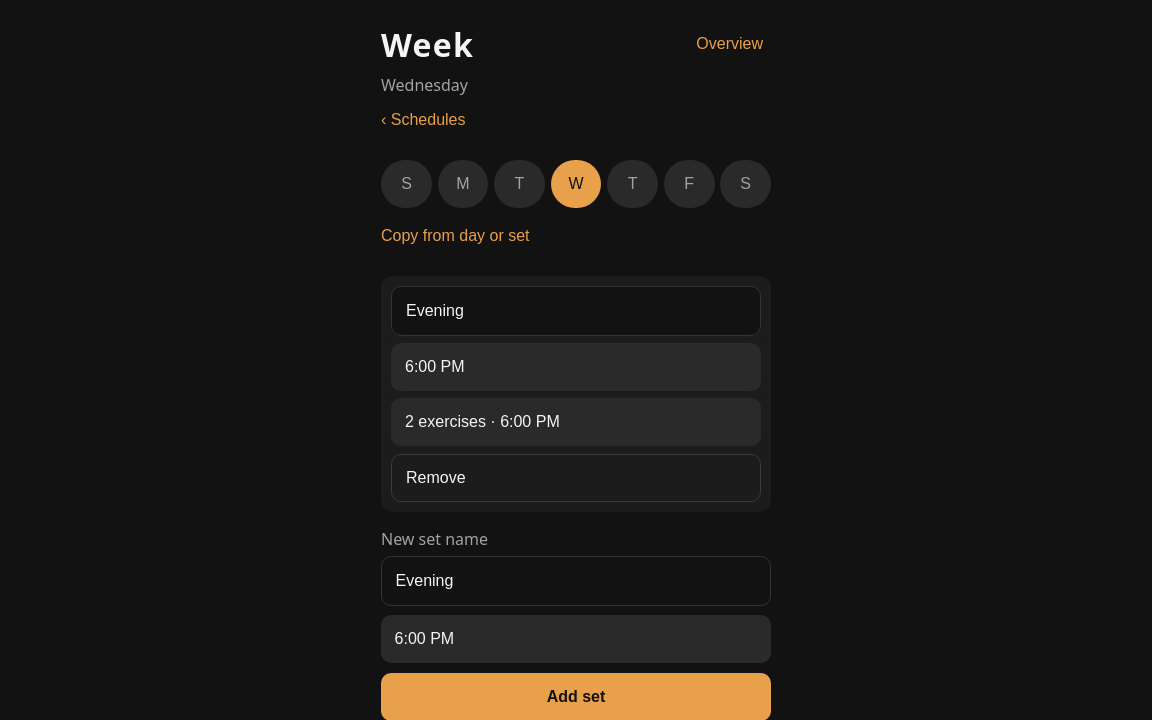
Test: WeekEditorPage › removes a set after confirm and surfaces delete errors
Click the button with aria-label "Remove Evening" at [436, 477], box x1=391 y1=454 x2=761 y2=502
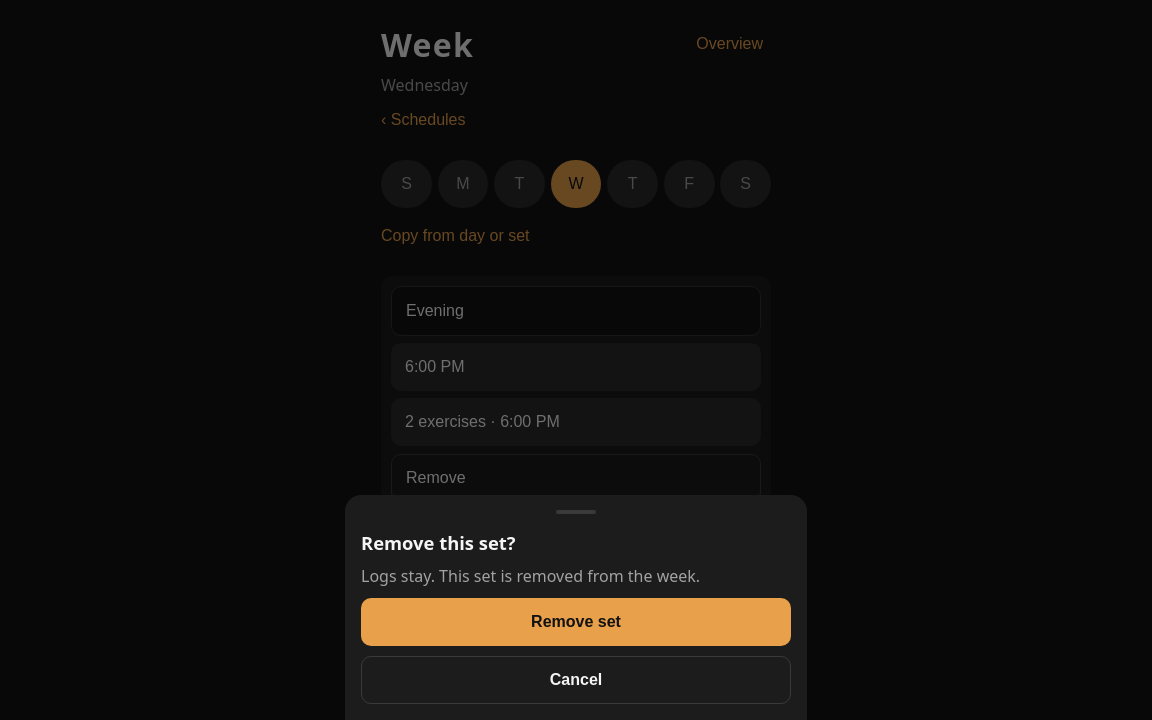
Now the element with test id "confirm-sheet" is shown
Click the button "Cancel" at [576, 680], box x1=361 y1=656 x2=791 y2=704
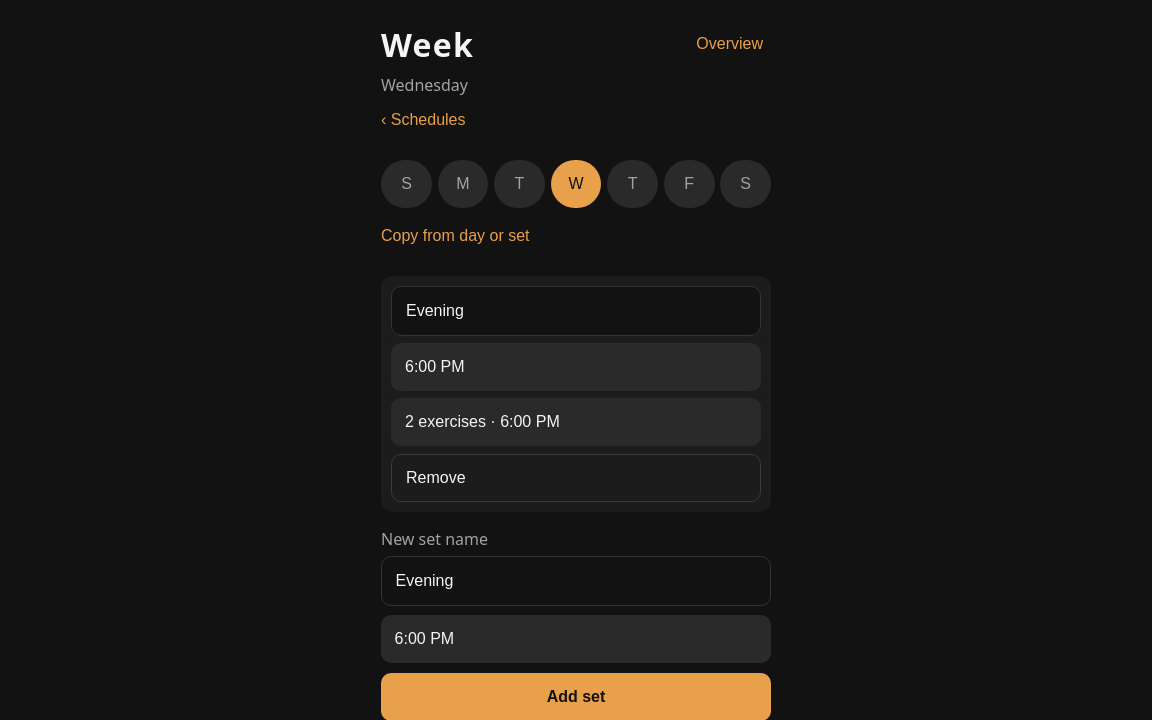
Now the element with test id "confirm-sheet" is gone
Click the button with aria-label "Remove Evening" at [436, 477], box x1=391 y1=454 x2=761 y2=502
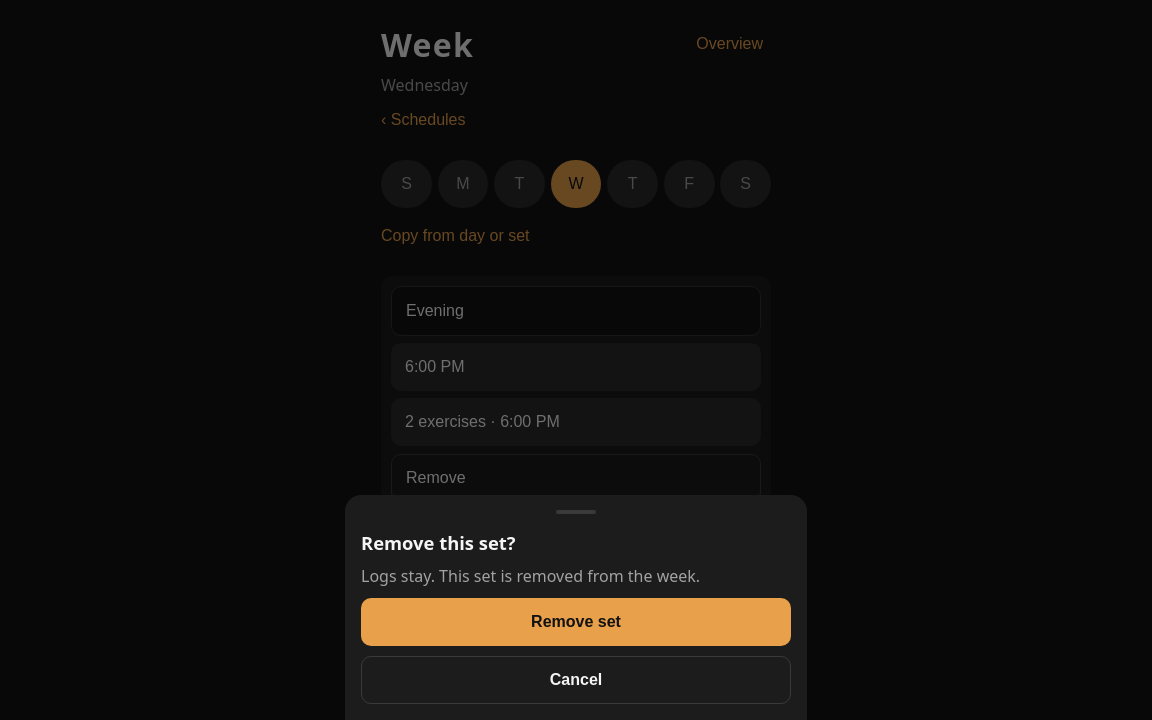
Click the button "Remove set" at [576, 622], box x1=361 y1=598 x2=791 y2=646
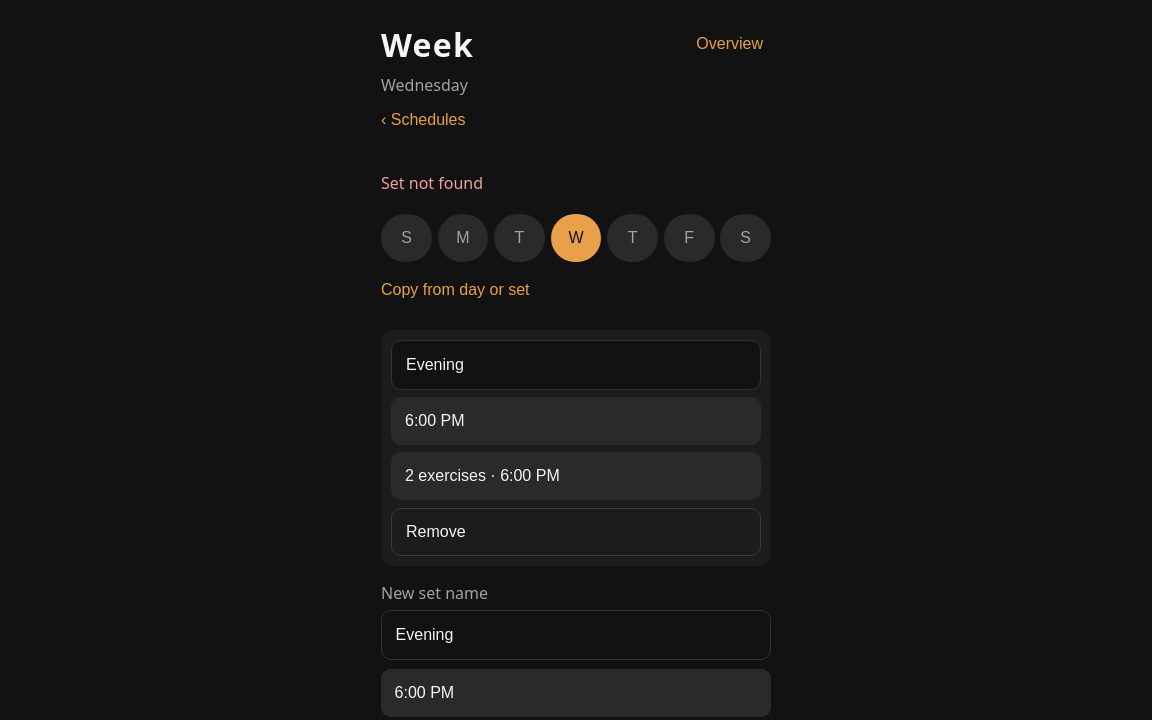
Now the message reads "Set not found", box x1=381 y1=172 x2=483 y2=194
Click the button with aria-label "Remove Evening" at [436, 531], box x1=391 y1=508 x2=761 y2=556
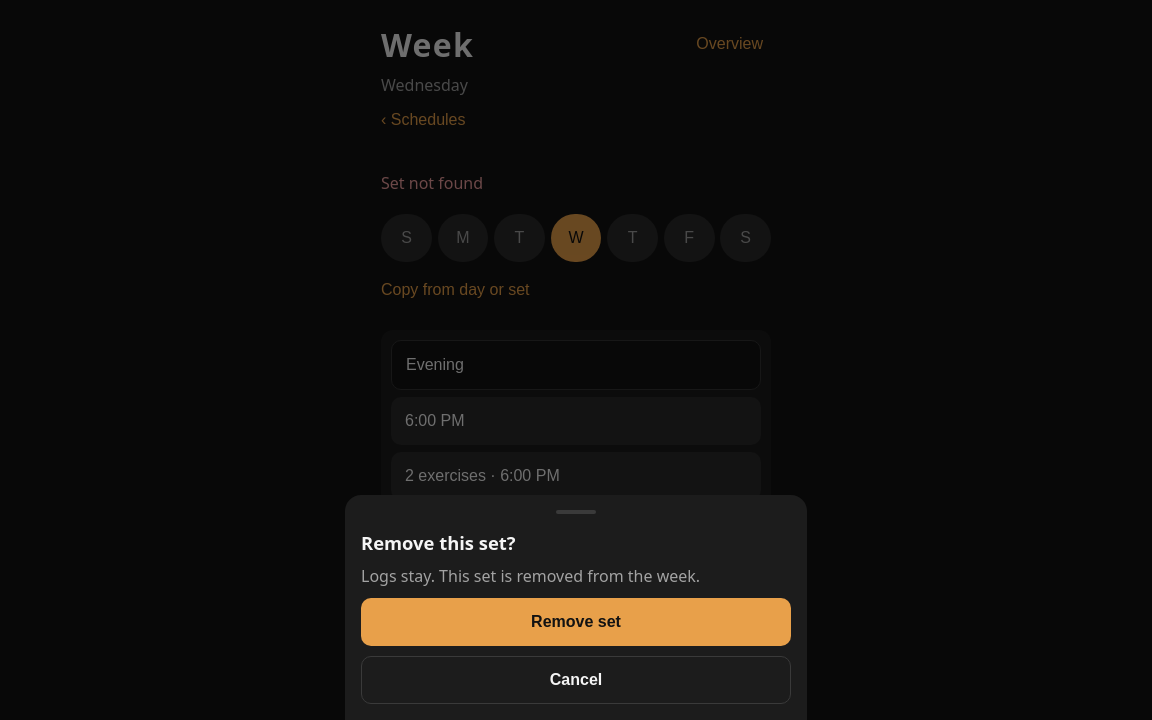
Click the button "Remove set" at [576, 622], box x1=361 y1=598 x2=791 y2=646
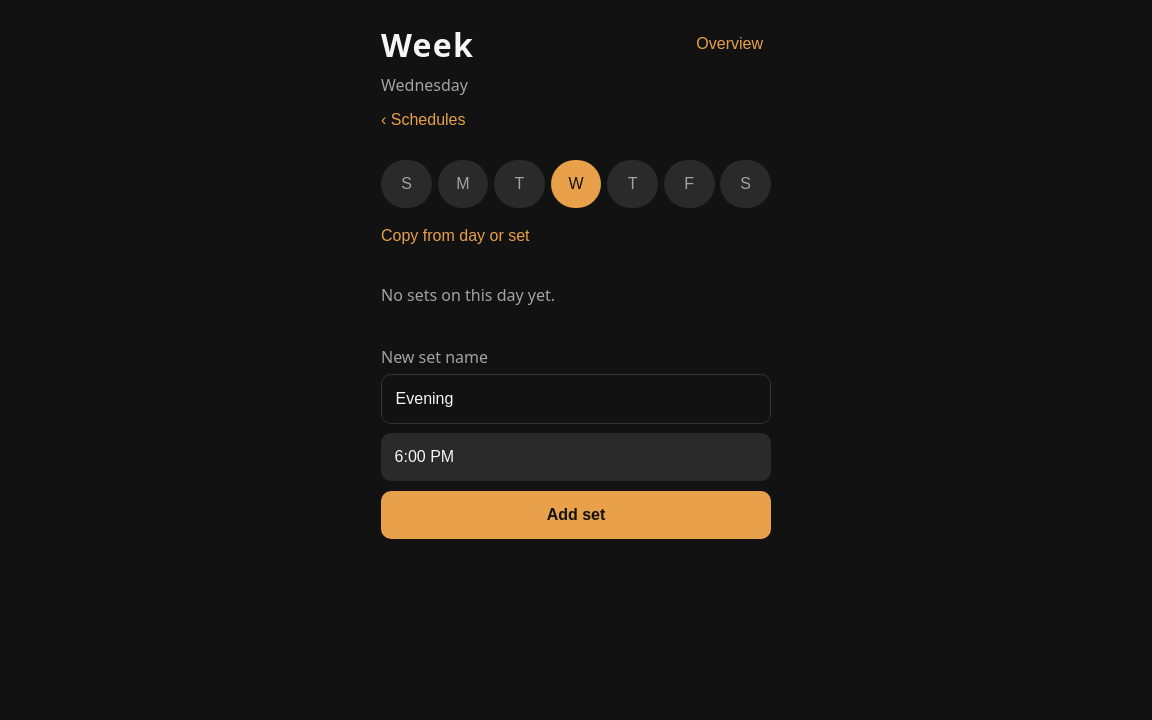
Now the text "No sets on this day yet." is shown, box x1=381 y1=284 x2=555 y2=306
